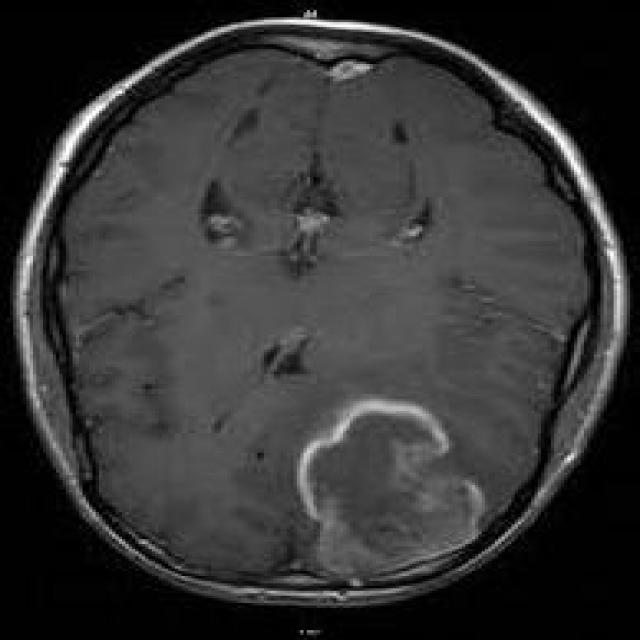Tumor-Cell: (281, 392, 498, 566)
